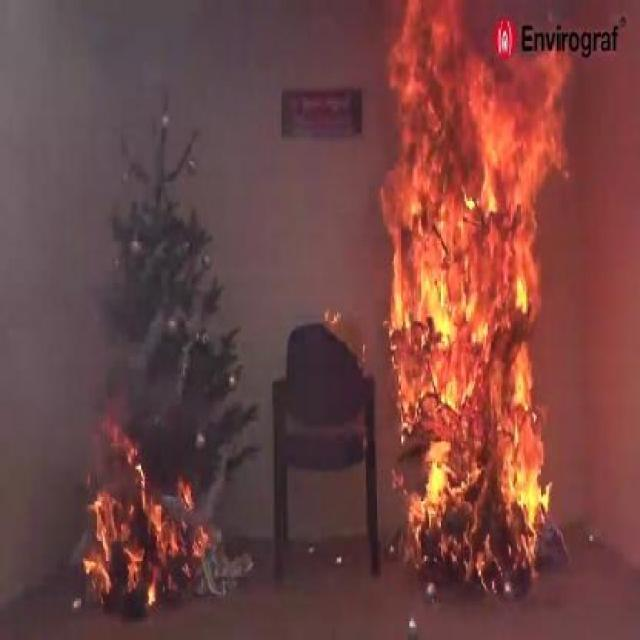fire: (388, 35, 550, 557), (90, 432, 204, 600)
smoke: (32, 53, 274, 396)
